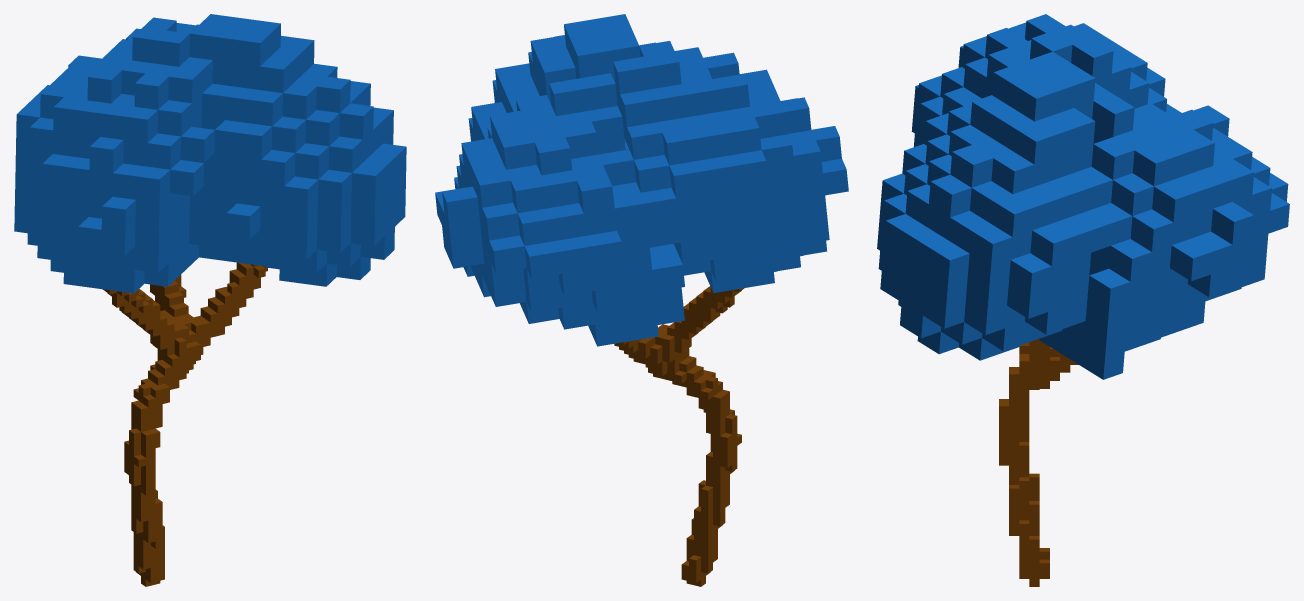
The model's file is Voxeltree_04_blue.glb.
The picture shows the model from 3 angles, left to right: view 1: azimuth 30°, elevation 25°; view 2: azimuth 150°, elevation 25°; view 3: azimuth 270°, elevation 25°; orthographic projection. The views are drawn at different scales.
Visible parts, largest first — view 1: Voxeltree_04_blue_Wood_0; view 2: Voxeltree_04_blue_Wood_0; view 3: Voxeltree_04_blue_Wood_0.
Boxes of the visible parts, x1,y1,x2,y2 form: Voxeltree_04_blue_Wood_0: [14, 14, 406, 586]; Voxeltree_04_blue_Wood_0: [435, 14, 848, 586]; Voxeltree_04_blue_Wood_0: [877, 14, 1289, 586].
Size of the model in its own units: 7.37 by 10.75 by 7.19.
